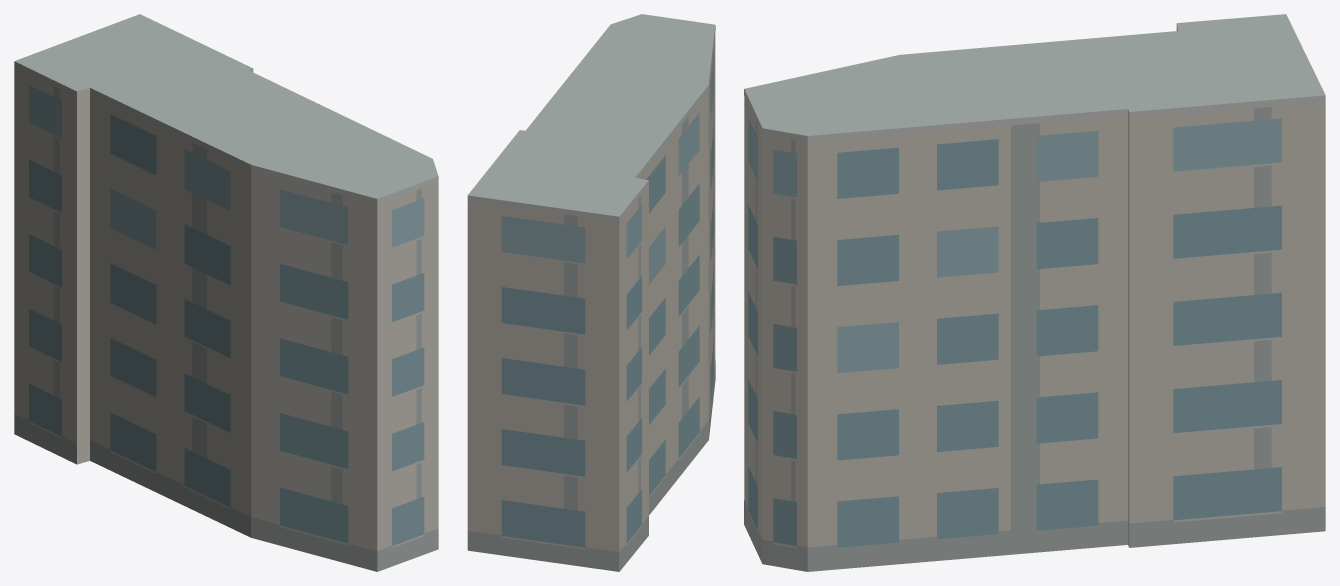
The model's file is survey-upis-32457133.glb.
3 renders of one model, left to right at view 1: azimuth 30°, elevation 25°; view 2: azimuth 150°, elevation 25°; view 3: azimuth 270°, elevation 25°, orthographic. The views are drawn at different scales.
Visible parts, largest first — view 1: survey-upis-32457133.tmp; view 2: survey-upis-32457133.tmp; view 3: survey-upis-32457133.tmp.
Boxes of the visible parts, x1,y1,x2,y2 form: survey-upis-32457133.tmp: [14, 14, 438, 571]; survey-upis-32457133.tmp: [467, 14, 715, 571]; survey-upis-32457133.tmp: [744, 14, 1325, 571].
Size of the model in its own units: 9.31 by 15.5 by 18.75.
